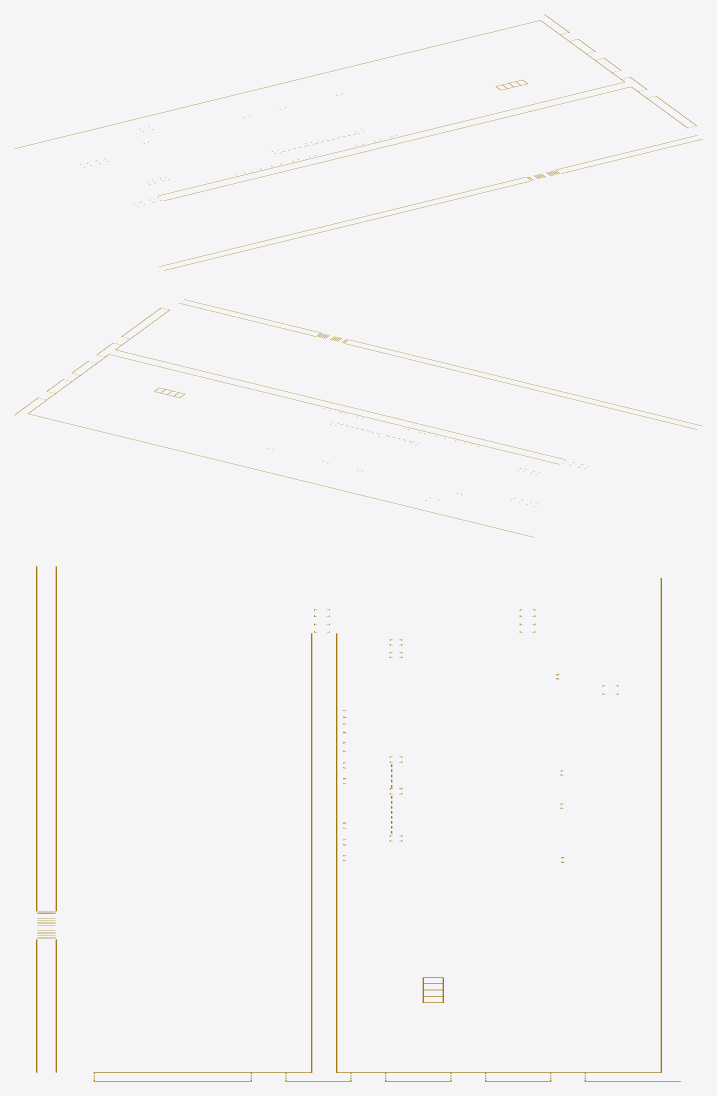
File: YF_LSX_HuangXian.FBX
3 renders of one model, top to bottom at view 1: azimuth 30°, elevation 25°; view 2: azimuth 150°, elevation 25°; view 3: azimuth 270°, elevation 25°, orthographic. The views are drawn at different scales.
Visible parts, largest first — view 1: YF_Model_HuangXian_104, YF_Model_HuangXian_127, YF_Model_HuangXian_208, YF_Model_HuangXian_105, YF_Model_HuangXian_121; view 2: YF_Model_HuangXian_104, YF_Model_HuangXian_127, YF_Model_HuangXian_208, YF_Model_HuangXian_105, YF_Model_HuangXian_121; view 3: YF_Model_HuangXian_104, YF_Model_HuangXian_127, YF_Model_HuangXian_208, YF_Model_HuangXian_105, YF_Model_HuangXian_121.
Part boxes in pixels (<box>): YF_Model_HuangXian_104: <box>14,20,539,148</box>; YF_Model_HuangXian_127: <box>159,135,697,266</box>; YF_Model_HuangXian_208: <box>164,139,702,270</box>; YF_Model_HuangXian_105: <box>157,82,624,196</box>; YF_Model_HuangXian_121: <box>164,87,630,200</box>; YF_Model_HuangXian_104: <box>29,414,534,537</box>; YF_Model_HuangXian_127: <box>179,303,697,429</box>; YF_Model_HuangXian_208: <box>184,299,701,425</box>; YF_Model_HuangXian_105: <box>109,354,558,464</box>; YF_Model_HuangXian_121: <box>116,350,564,459</box>; YF_Model_HuangXian_104: <box>660,578,661,1072</box>; YF_Model_HuangXian_127: <box>55,566,56,1072</box>; YF_Model_HuangXian_208: <box>36,566,37,1072</box>; YF_Model_HuangXian_105: <box>336,633,337,1072</box>; YF_Model_HuangXian_121: <box>311,633,312,1072</box>.
Size of the model in its own units: 7332 by 0.000467 by 3883.
